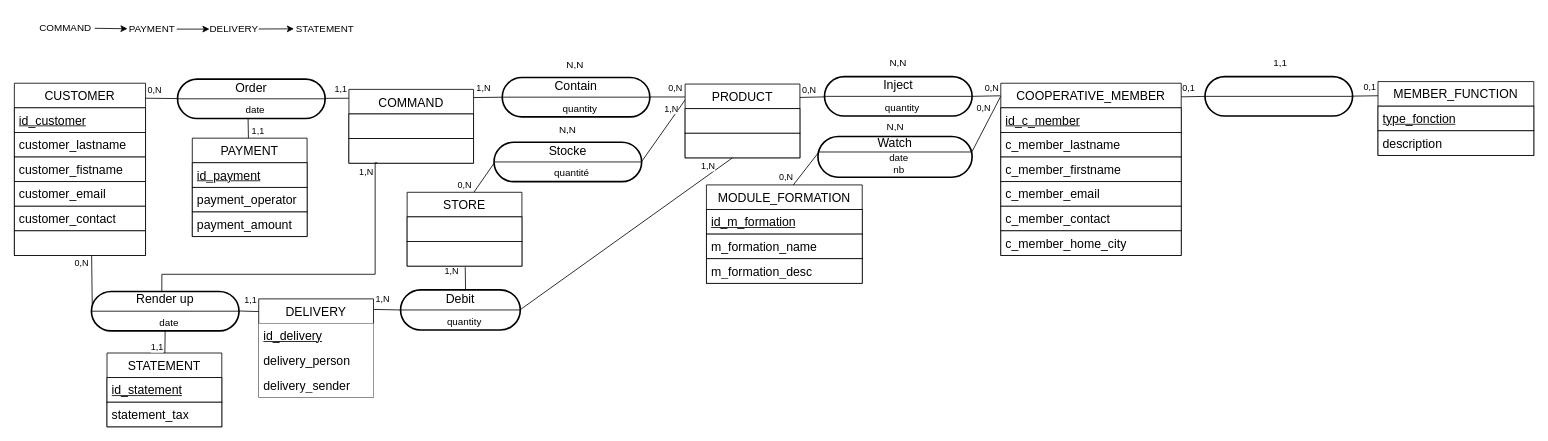
Some shapes in this 1548 by 441 pixel diagram are drawn without their labels. The centre of each missing label's shape, as x and y in pixels:
command_quotation: pixel 411 150
customer_home_city: pixel 80 242
Have: pixel 1278 95
id_command: pixel 411 126
id_product: pixel 742 120
id_store: pixel 464 228
product_name: pixel 742 145
store_home_city: pixel 464 253
